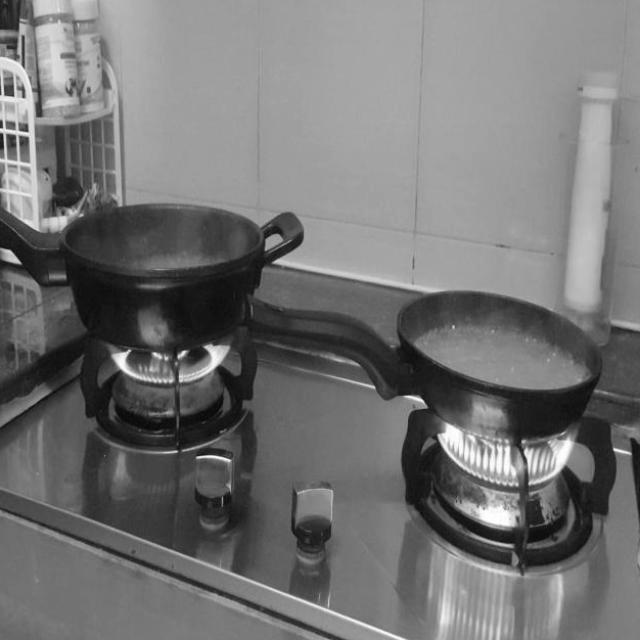smoke: (425, 412, 581, 482), (103, 327, 229, 397)
